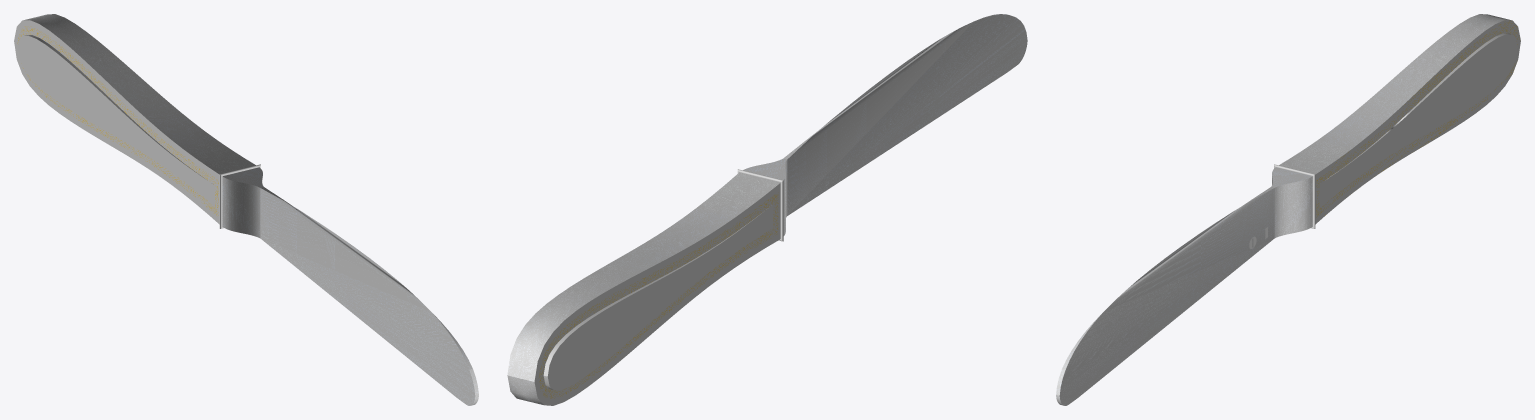
Rendered from model_align.obj.
3 views of the same model, side by side, from view 1: azimuth 30°, elevation 25°; view 2: azimuth 150°, elevation 25°; view 3: azimuth 330°, elevation 25° (orthographic). The views are drawn at different scales.
Visible parts, largest first — view 1: mesh5_mesh5-geometry; view 2: mesh5_mesh5-geometry; view 3: mesh5_mesh5-geometry.
Boxes of the visible parts, x1,y1,x2,y2 form: mesh5_mesh5-geometry: [14, 14, 478, 405]; mesh5_mesh5-geometry: [507, 14, 1027, 405]; mesh5_mesh5-geometry: [1056, 14, 1520, 405].
Bounding box in the file's own units: 0.0119 × 0.0222 × 0.2265.
3 materials, 1 textured.
